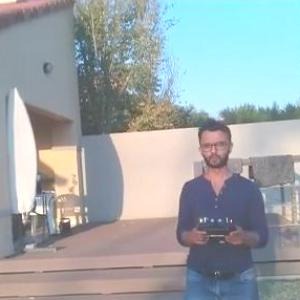follow: (168, 112, 269, 299)
